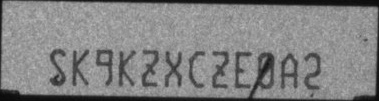0: (256, 51, 276, 89)
2: (303, 52, 322, 91)
9: (94, 48, 112, 86)
A: (279, 51, 298, 89)
C: (186, 49, 205, 88)
E: (233, 50, 250, 89)
K: (118, 49, 137, 87), (71, 49, 89, 87)
S: (49, 47, 67, 87)
X: (163, 50, 181, 88)
Z: (210, 50, 228, 89), (141, 49, 159, 87)
